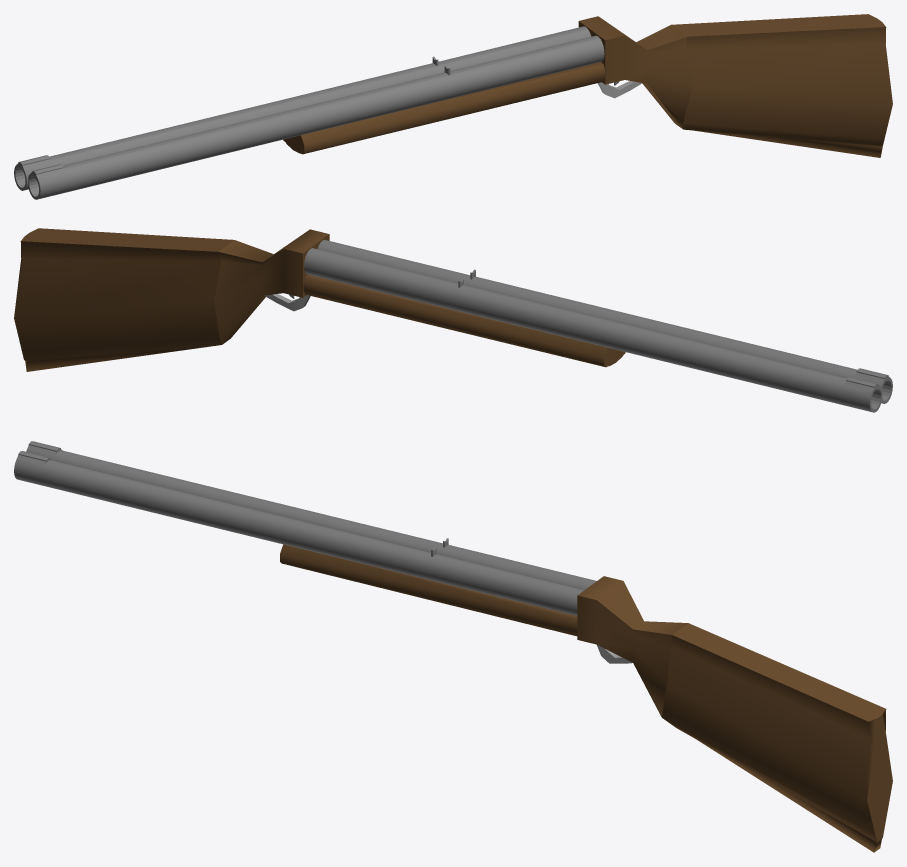
Rendered from Gun.fbx.
3 renders of one model, top to bottom at view 1: azimuth 30°, elevation 25°; view 2: azimuth 150°, elevation 25°; view 3: azimuth 330°, elevation 25°, orthographic.
Parts seen in each view (by area): view 1: Gun02; view 2: Gun02; view 3: Gun02.
Boxes of the visible parts, box(x1,y1,x2,y2) form: Gun02: box(14, 14, 892, 199); Gun02: box(14, 228, 892, 412); Gun02: box(14, 441, 892, 852).
Bounding box in the file's own units: 1.54 × 0.3454 × 0.0842.
